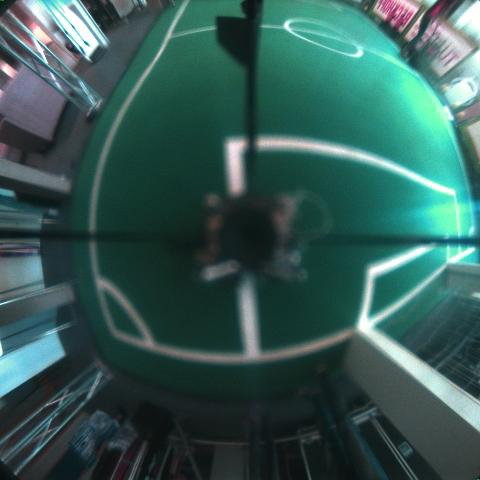ball: (455, 112, 465, 119), (452, 102, 461, 109), (440, 87, 449, 93), (363, 6, 368, 11)
goal: (357, 326, 479, 432), (447, 262, 479, 268)
person: (295, 363, 388, 479), (400, 0, 458, 60), (241, 410, 279, 479)
robot: (408, 30, 450, 72), (386, 14, 404, 41), (378, 6, 396, 30)
